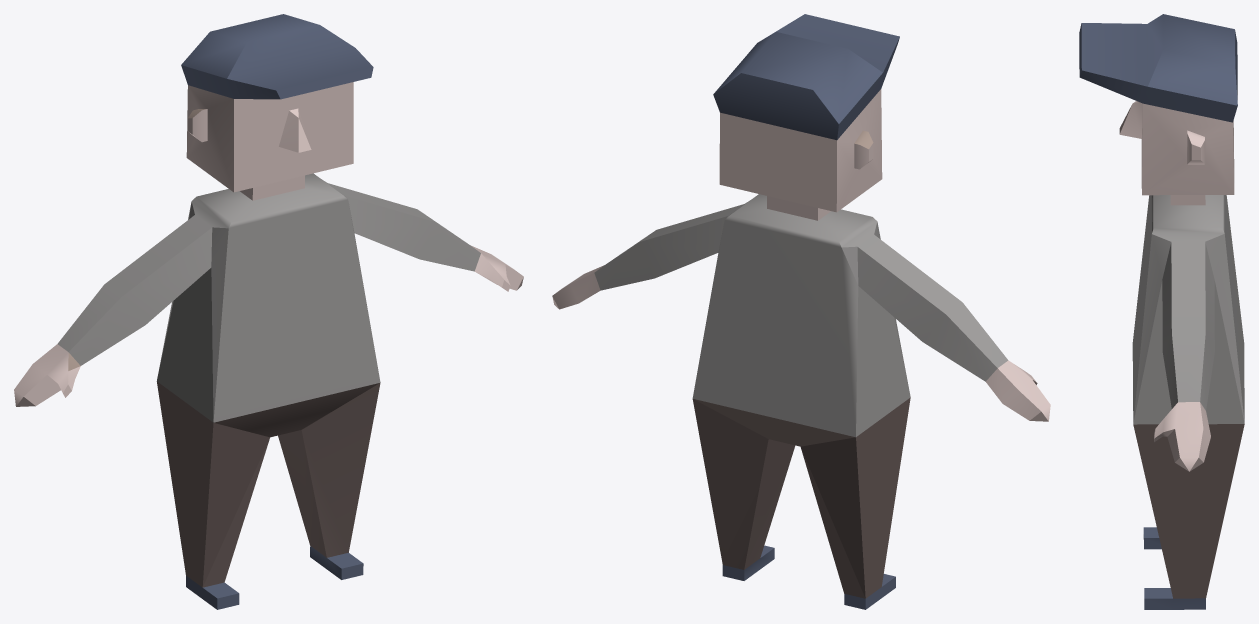
File: man2_model.fbx
The picture shows the model from 3 angles, left to right: view 1: azimuth 30°, elevation 25°; view 2: azimuth 150°, elevation 25°; view 3: azimuth 270°, elevation 25°; orthographic projection. The views are drawn at different scales.
Visible parts, largest first — view 1: man_body; view 2: man_body; view 3: man_body.
Boxes of the visible parts, <box> form: man_body: <box>14,14,523,609</box>; man_body: <box>552,14,1050,609</box>; man_body: <box>1079,14,1244,609</box>.
Bounding box in the file's own units: 5.19 × 5.4 × 1.49.
